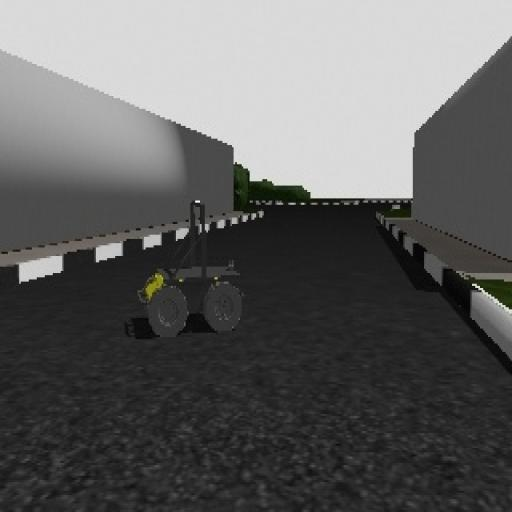huskya200: (127, 178, 255, 351)
